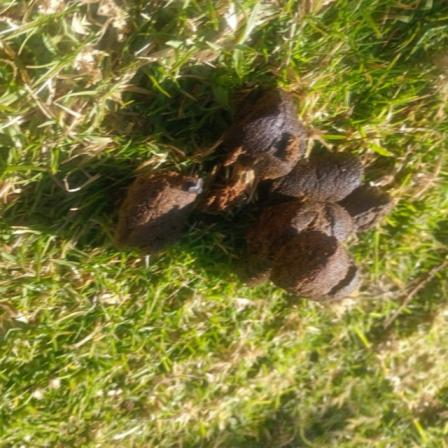dog-poop: (116, 83, 375, 300)
